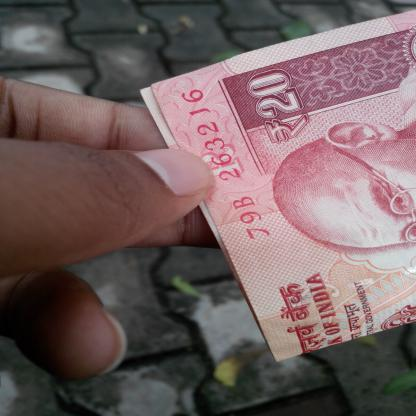Old20Front: (147, 7, 416, 357)
